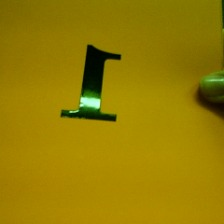orange1: (56, 42, 125, 129)
